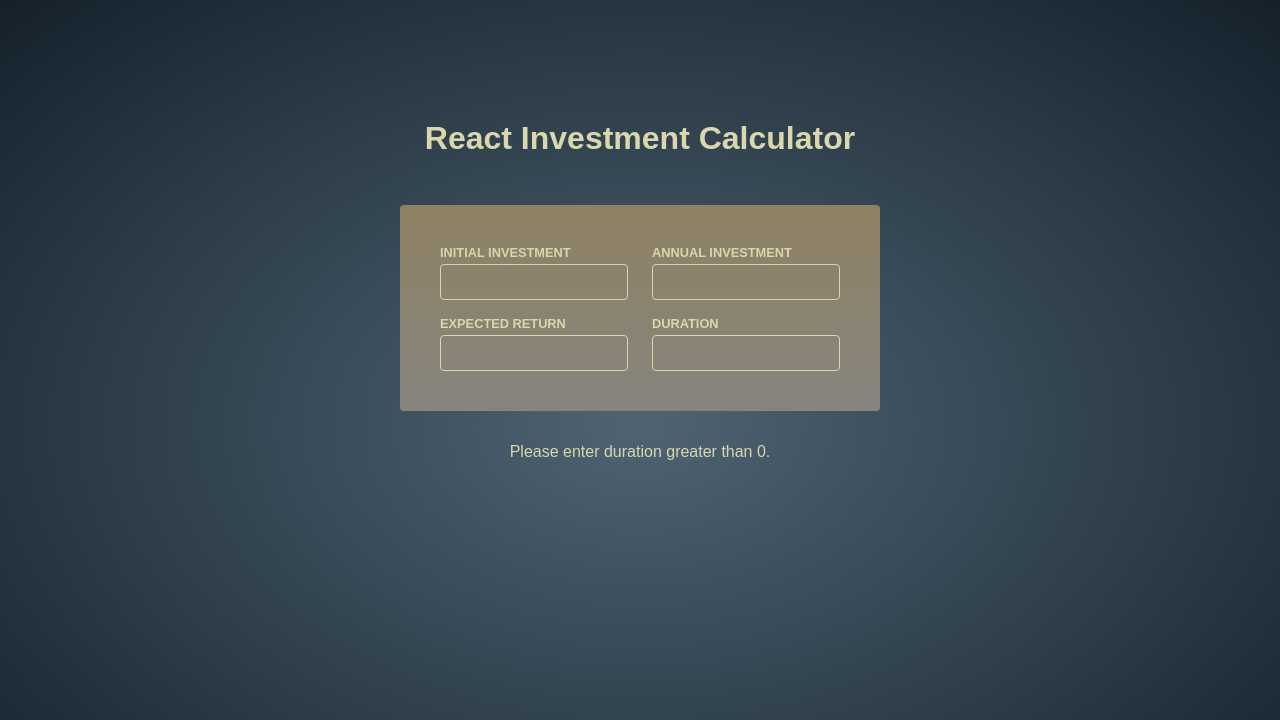
Scenario: App component › renders Results component when duration >= 1
Type "5" into the number field labelled "Duration".
click(746, 353); type("5")  # box [652,335,840,371]
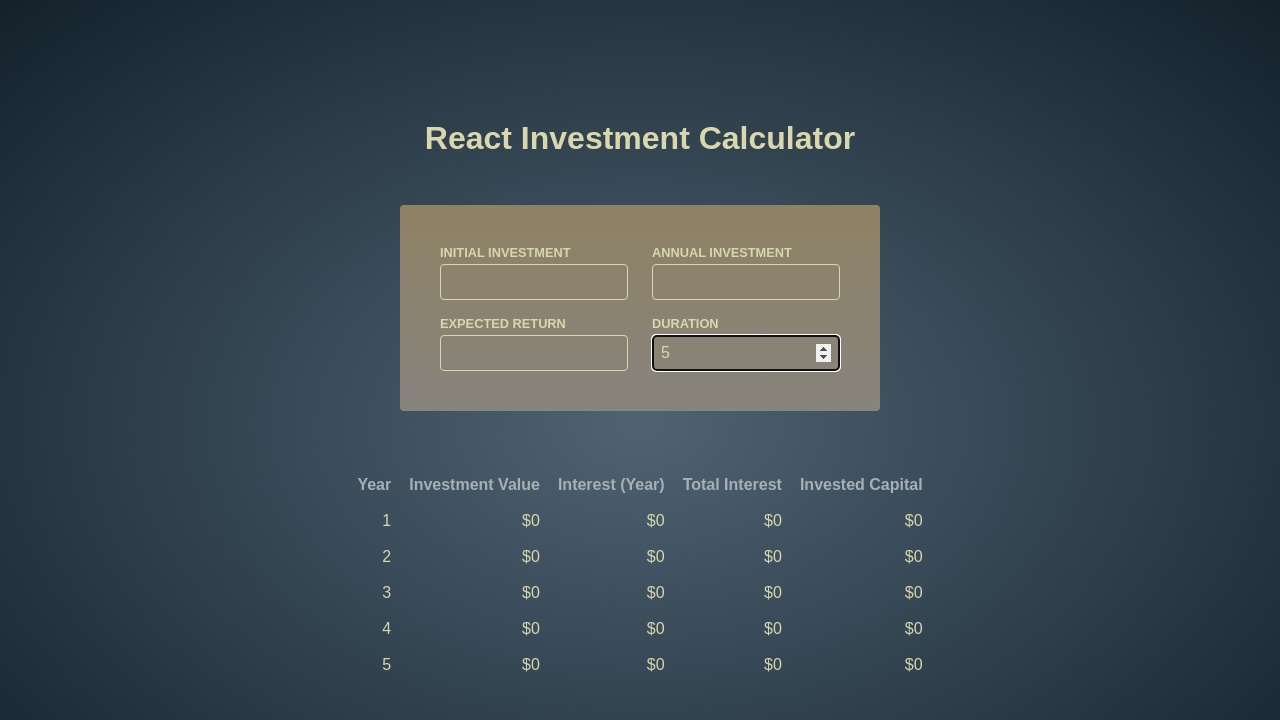
expect the text "Please enter duration greater than 0" is gone: met
